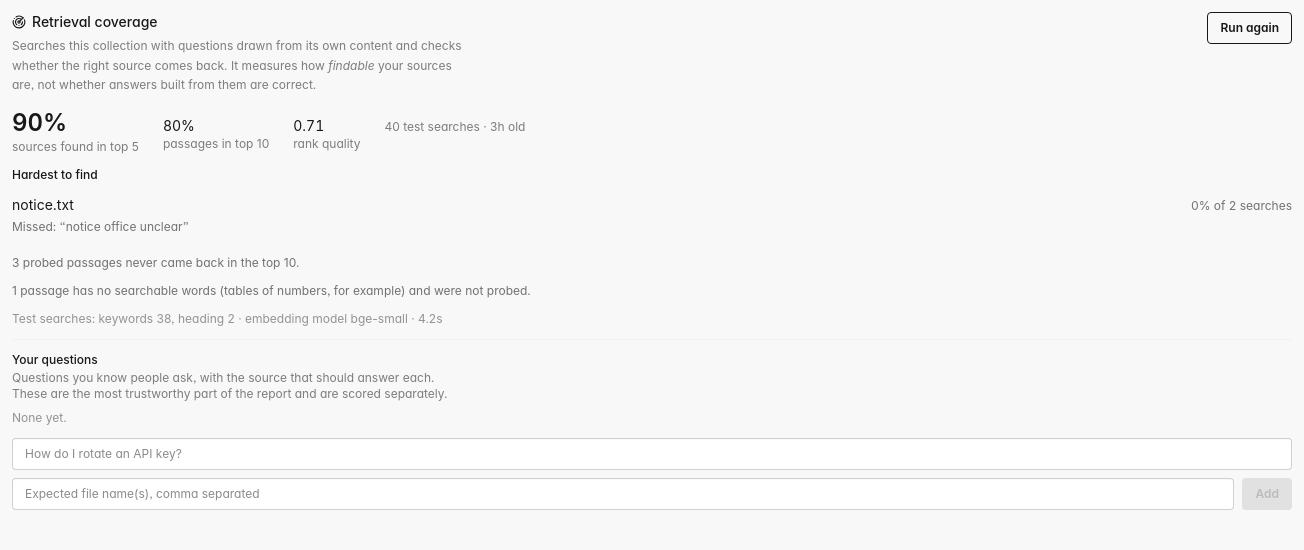
Scenario: CoverageReportPanel › owner questions › shows the server reason when a question is rejected, and keeps the text
The width and height of the screenshot is (1304, 550).
Type "Where is the roadmap?" into the field with placeholder "How do I rotate an API key?". click: (652, 454)
box: [12,438,1292,470]
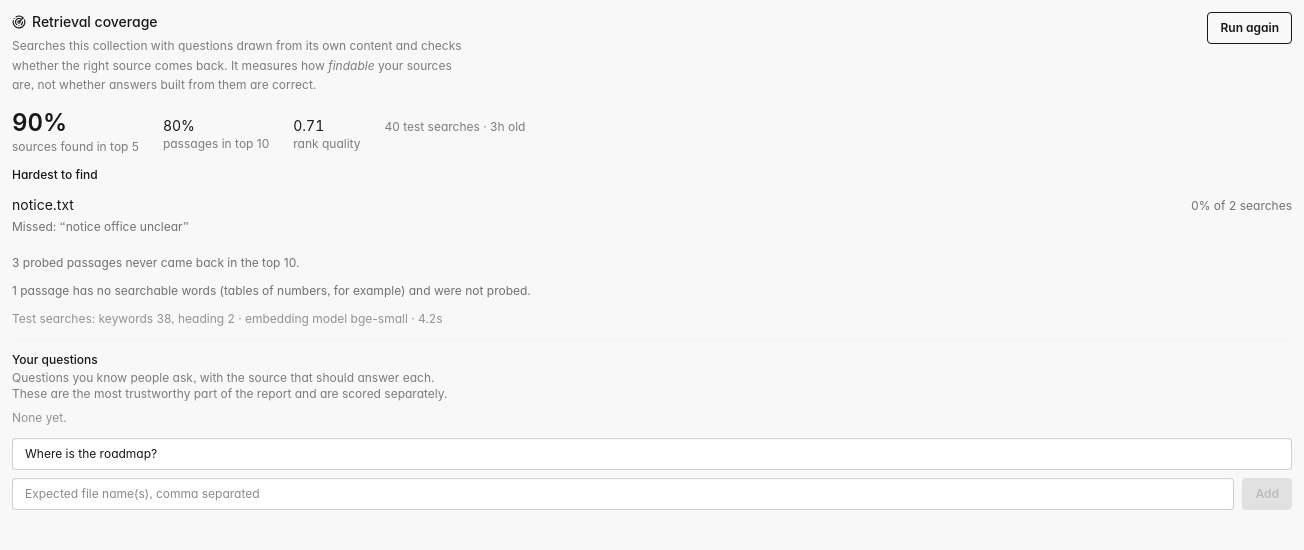
Type "missing.md" into the field with placeholder "Expected file name(s), comma separated". click: (623, 494)
box: [12,478,1234,510]
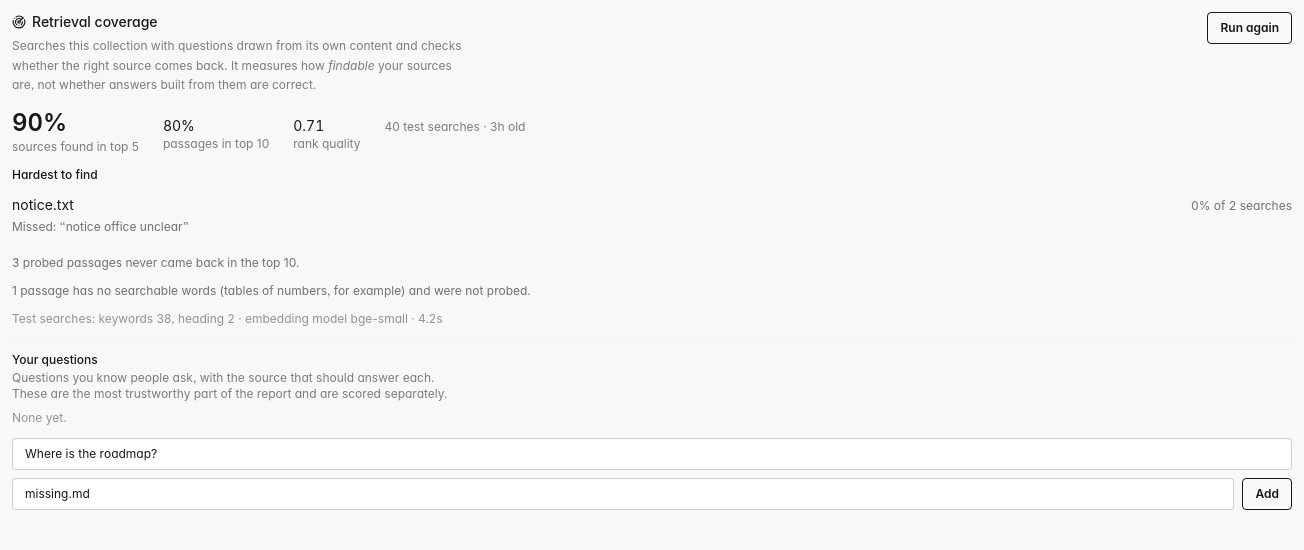
Submit the form with test id "coverage-question-form", box [12,438,1292,510]
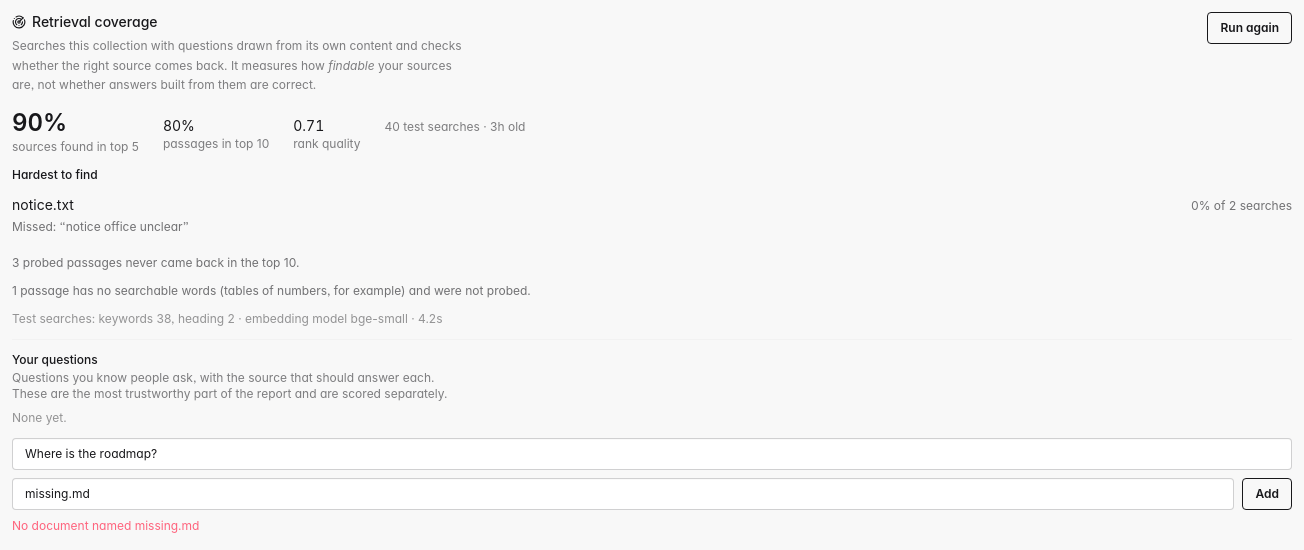
Now the message with test id "coverage-question-error" reads "No document named missing.md", box [12,518,199,532]
